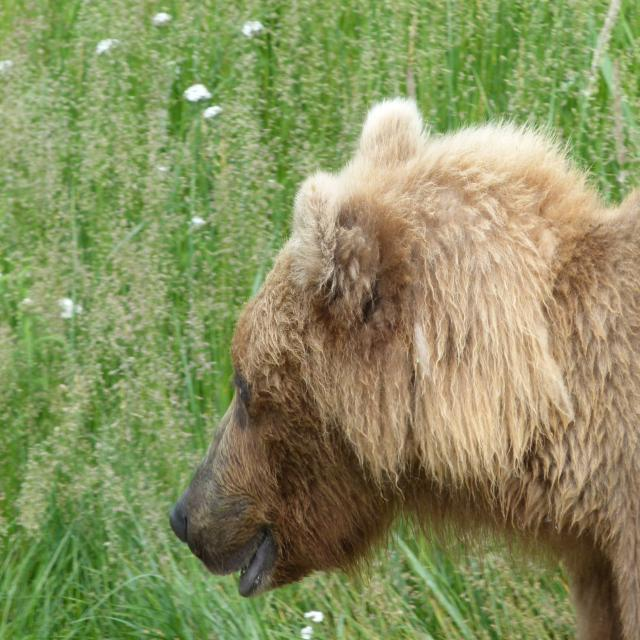bear face: (167, 96, 640, 628)
